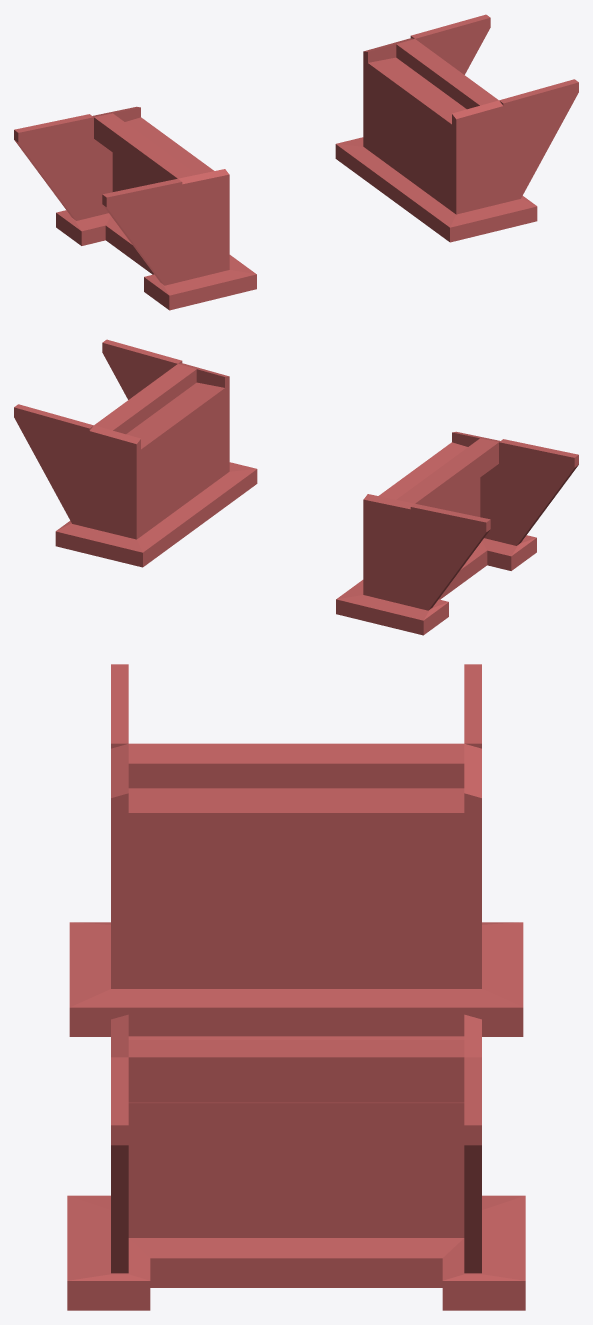
File: bridge3_abutments.obj
The picture shows the model from 3 angles, top to bottom: view 1: azimuth 30°, elevation 25°; view 2: azimuth 150°, elevation 25°; view 3: azimuth 270°, elevation 25°; orthographic projection. The views are drawn at different scales.
Parts seen in each view (by area): view 1: mesh_1, mesh_0; view 2: mesh_1, mesh_0; view 3: mesh_0, mesh_1.
Part boxes in pixels (<box>): mesh_1: <box>335,14,578,242</box>; mesh_0: <box>14,106,256,310</box>; mesh_1: <box>14,339,257,567</box>; mesh_0: <box>336,431,578,635</box>; mesh_0: <box>69,664,523,1036</box>; mesh_1: <box>67,1014,525,1310</box>.
Size of the model in its own units: 50 by 11.95 by 21.
